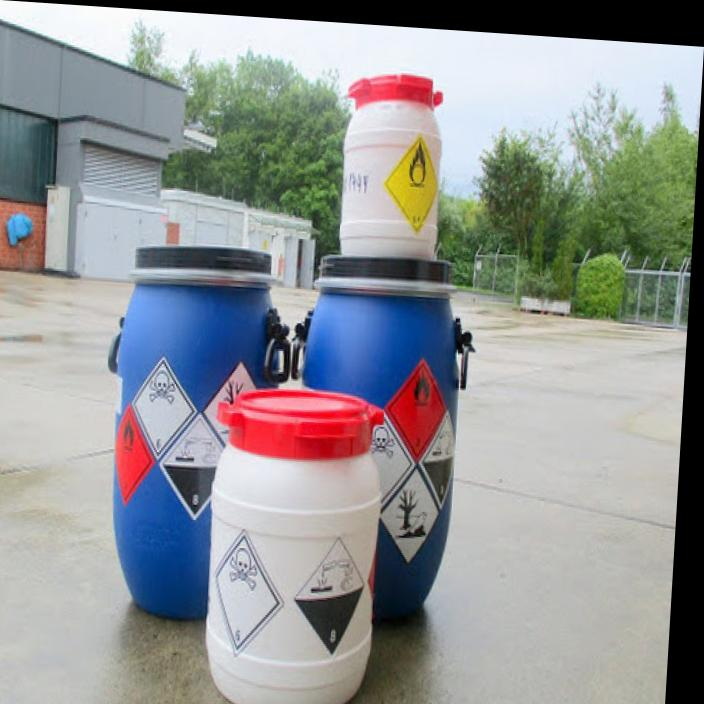can and bottle trash cans: (382, 354, 457, 462), (112, 400, 160, 508)
defibrillator: (381, 131, 446, 235)
door: (207, 523, 289, 664), (127, 352, 202, 466)
elevator buttons: (291, 534, 368, 658), (155, 409, 228, 524), (416, 409, 460, 510)
